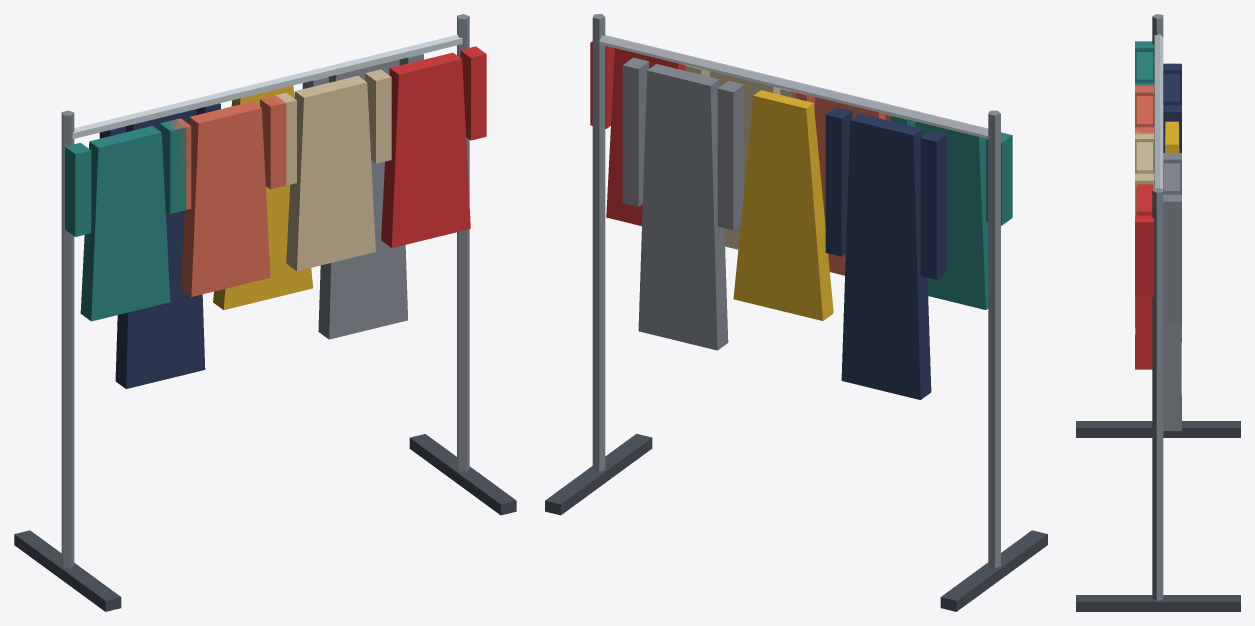
The model's file is clothing_rack.glb.
The picture shows the model from 3 angles, left to right: view 1: azimuth 30°, elevation 25°; view 2: azimuth 150°, elevation 25°; view 3: azimuth 270°, elevation 25°; orthographic projection. The views are drawn at different scales.
Visible parts, largest first — view 1: Body; view 2: Body; view 3: Body.
Boxes of the visible parts, left/top/right/bottom form: Body: left=14, top=14, right=516, bottom=611; Body: left=545, top=14, right=1047, bottom=611; Body: left=1076, top=14, right=1240, bottom=611.
Size of the model in its own units: 1.57 by 1.68 by 0.6.
